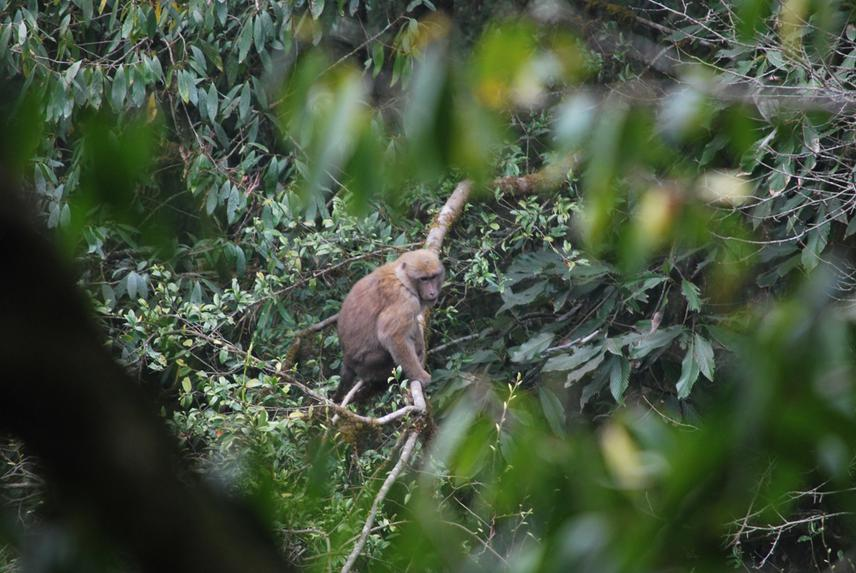monkey: (314, 238, 465, 411)
